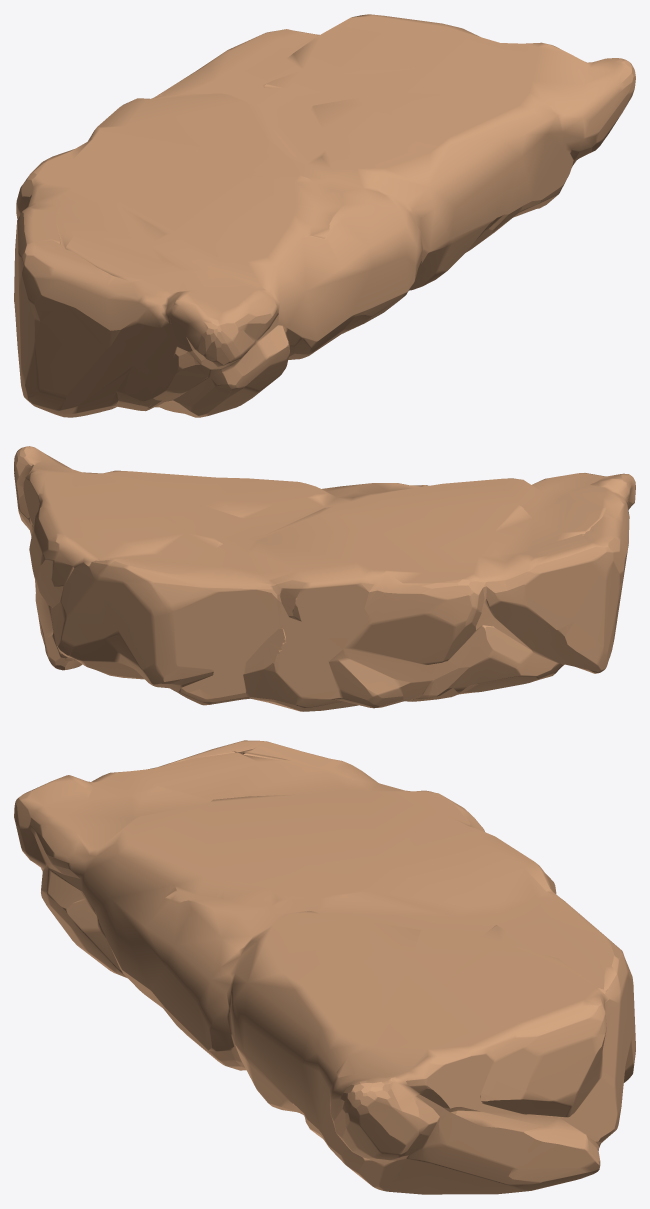
3 renders of one model, top to bottom at view 1: azimuth 30°, elevation 25°; view 2: azimuth 150°, elevation 25°; view 3: azimuth 270°, elevation 25°, orthographic. The views are drawn at different scales.
Parts seen in each view (by area): view 1: Mesh_31_LOD0; view 2: Mesh_31_LOD0; view 3: Mesh_31_LOD0.
Boxes of the visible parts, <box> form: Mesh_31_LOD0: <box>14,14,635,417</box>; Mesh_31_LOD0: <box>14,446,635,711</box>; Mesh_31_LOD0: <box>14,740,635,1194</box>.
Size of what is drawn, in the model's own units: 3285 by 819 by 2461.
